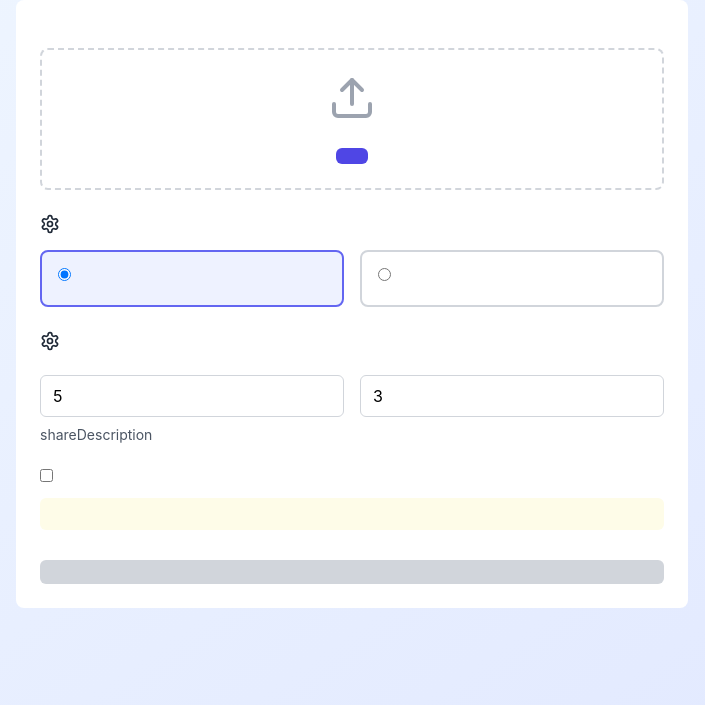
Test: FileEncryption Component › should show pure shamir info when pure shamir is selected
The width and height of the screenshot is (705, 705).
Step 1. Click the 2nd radio button showing "pure-shamir" → (384, 274), box [378,268,391,281]
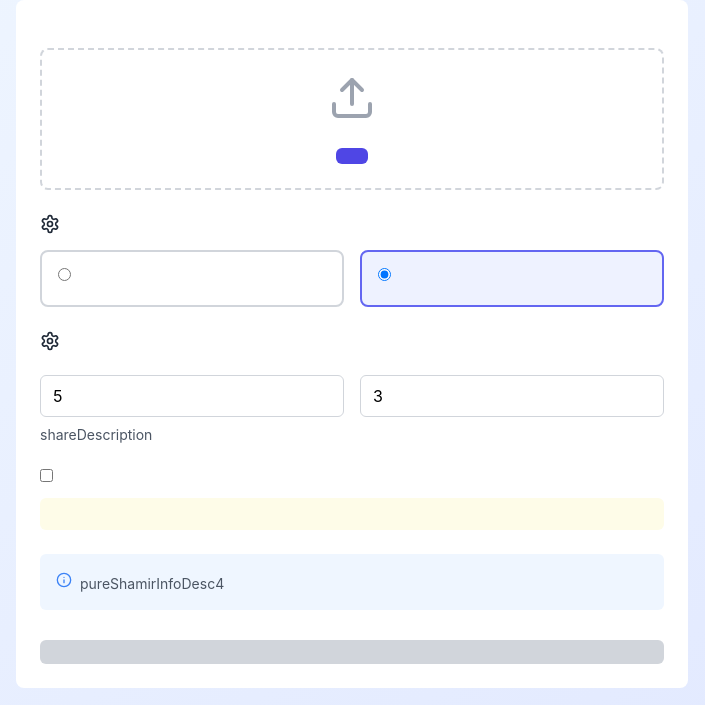
Expected: the element showing "pureShamirInfoDesc4" is shown, [40,554,664,610]
